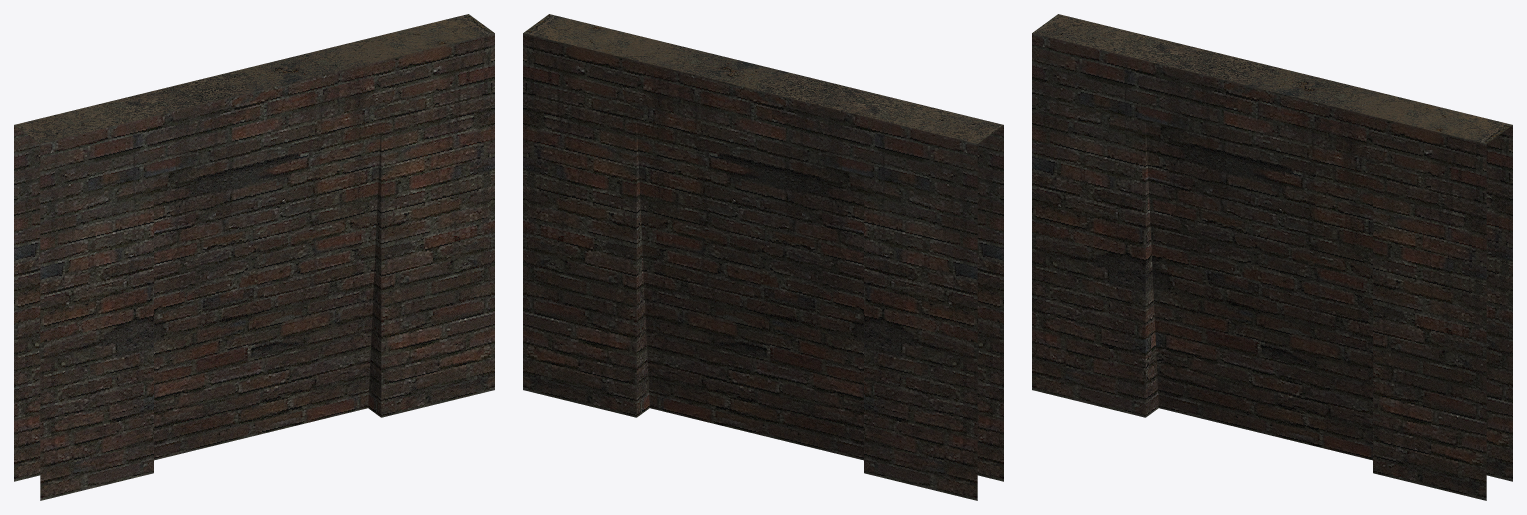
Rendered from wall_hs_1_t_2.glb.
3 views of the same model, side by side, from view 1: azimuth 30°, elevation 25°; view 2: azimuth 150°, elevation 25°; view 3: azimuth 330°, elevation 25° (orthographic).
Parts seen in each view (by area): view 1: wall_hs_1_t_2; view 2: wall_hs_1_t_2; view 3: wall_hs_1_t_2.
Boxes of the visible parts, x1,y1,x2,y2 form: wall_hs_1_t_2: (14,14,494,500); wall_hs_1_t_2: (523,14,1003,500); wall_hs_1_t_2: (1032,14,1512,500).
Bounding box in the file's own units: 4 × 3 × 0.4.
2 materials, 2 textured.
